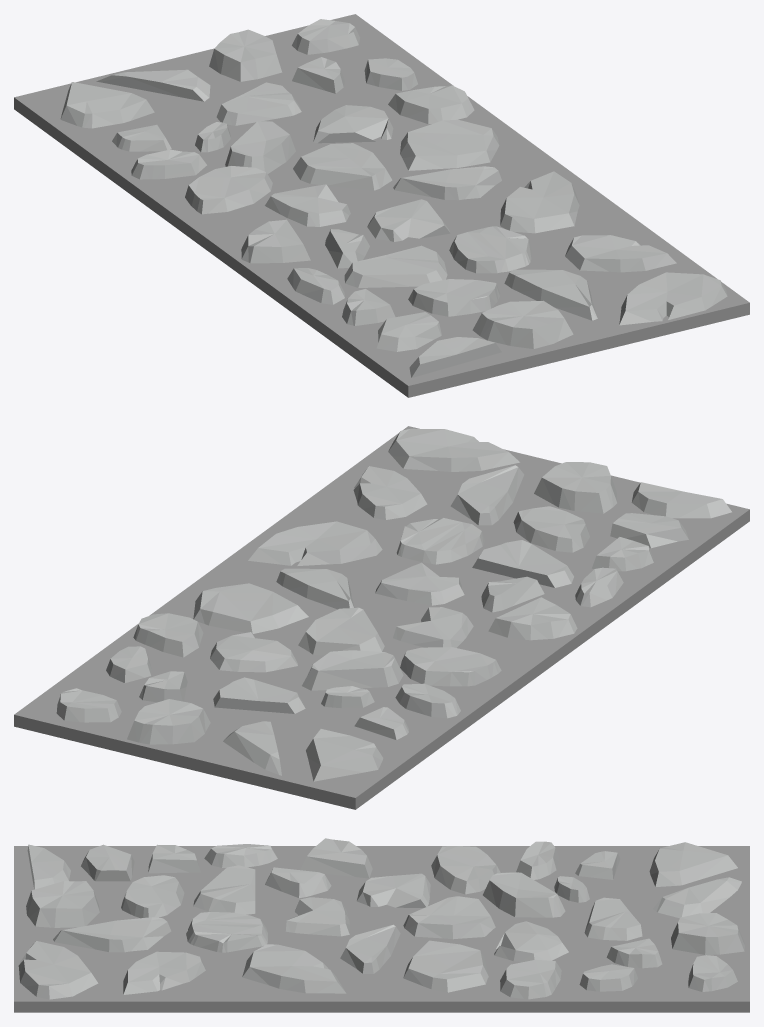
Rendered from Road_Stone_01.glb.
3 renders of one model, top to bottom at view 1: azimuth 30°, elevation 25°; view 2: azimuth 150°, elevation 25°; view 3: azimuth 270°, elevation 25°, orthographic. The views are drawn at different scales.
Parts seen in each view (by area): view 1: Road_Stone_1; view 2: Road_Stone_1; view 3: Road_Stone_1.
Part boxes in pixels (left/top/right/bottom): Road_Stone_1: left=14, top=14, right=749, bottom=397; Road_Stone_1: left=14, top=426, right=749, bottom=809; Road_Stone_1: left=14, top=838, right=749, bottom=1012.
Size of the model in its own units: 3 by 0.2524 by 6.
Materials: 1 (1 with a texture image).
